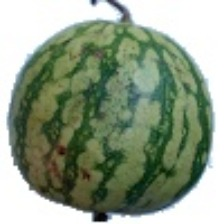watermelon: (2, 50, 192, 207)
